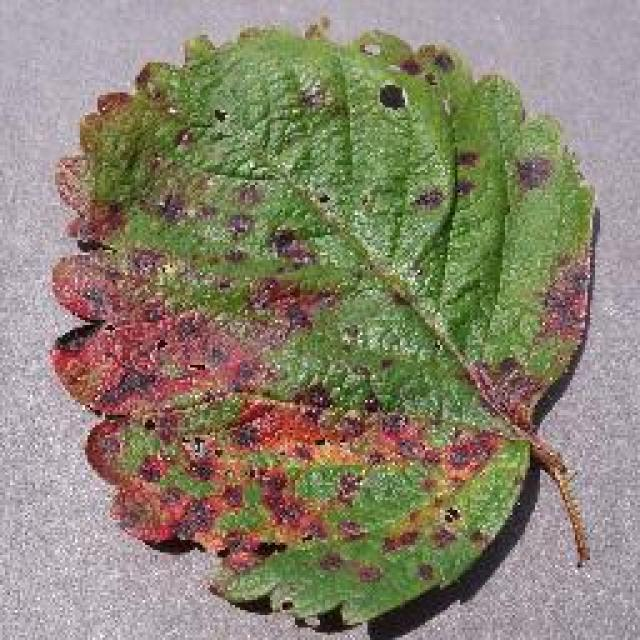Strawberry leaf scorch: (75, 80, 523, 572)
